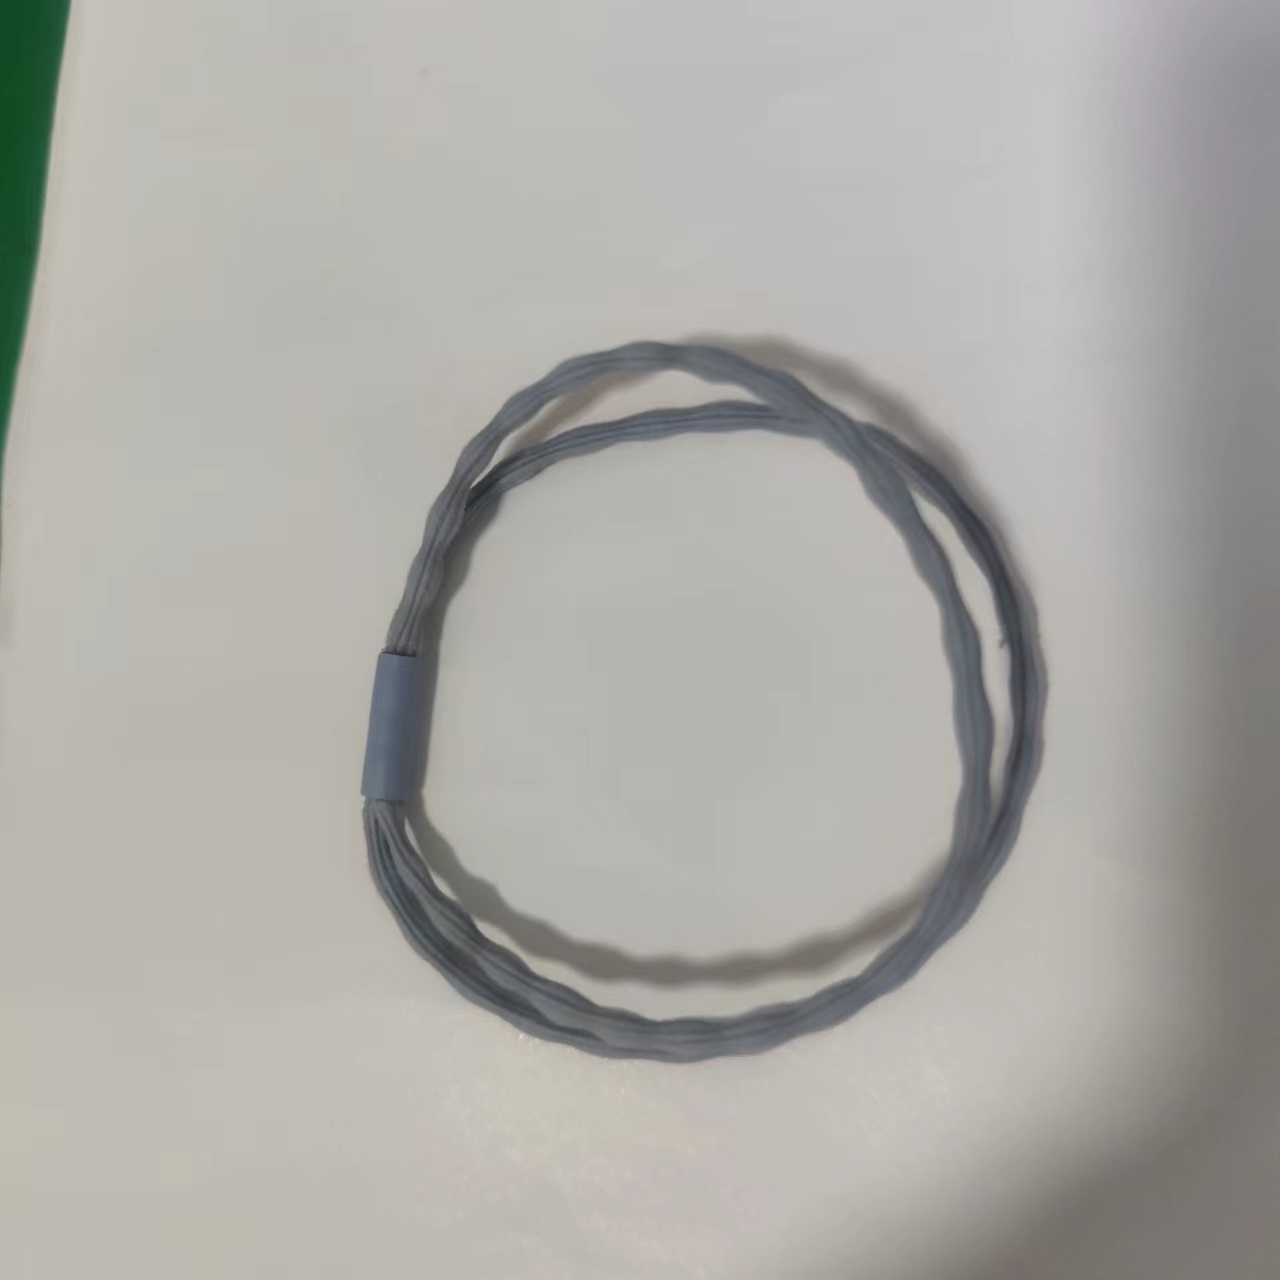9/可回收垃圾/绳子: (359, 339, 1046, 1065)
